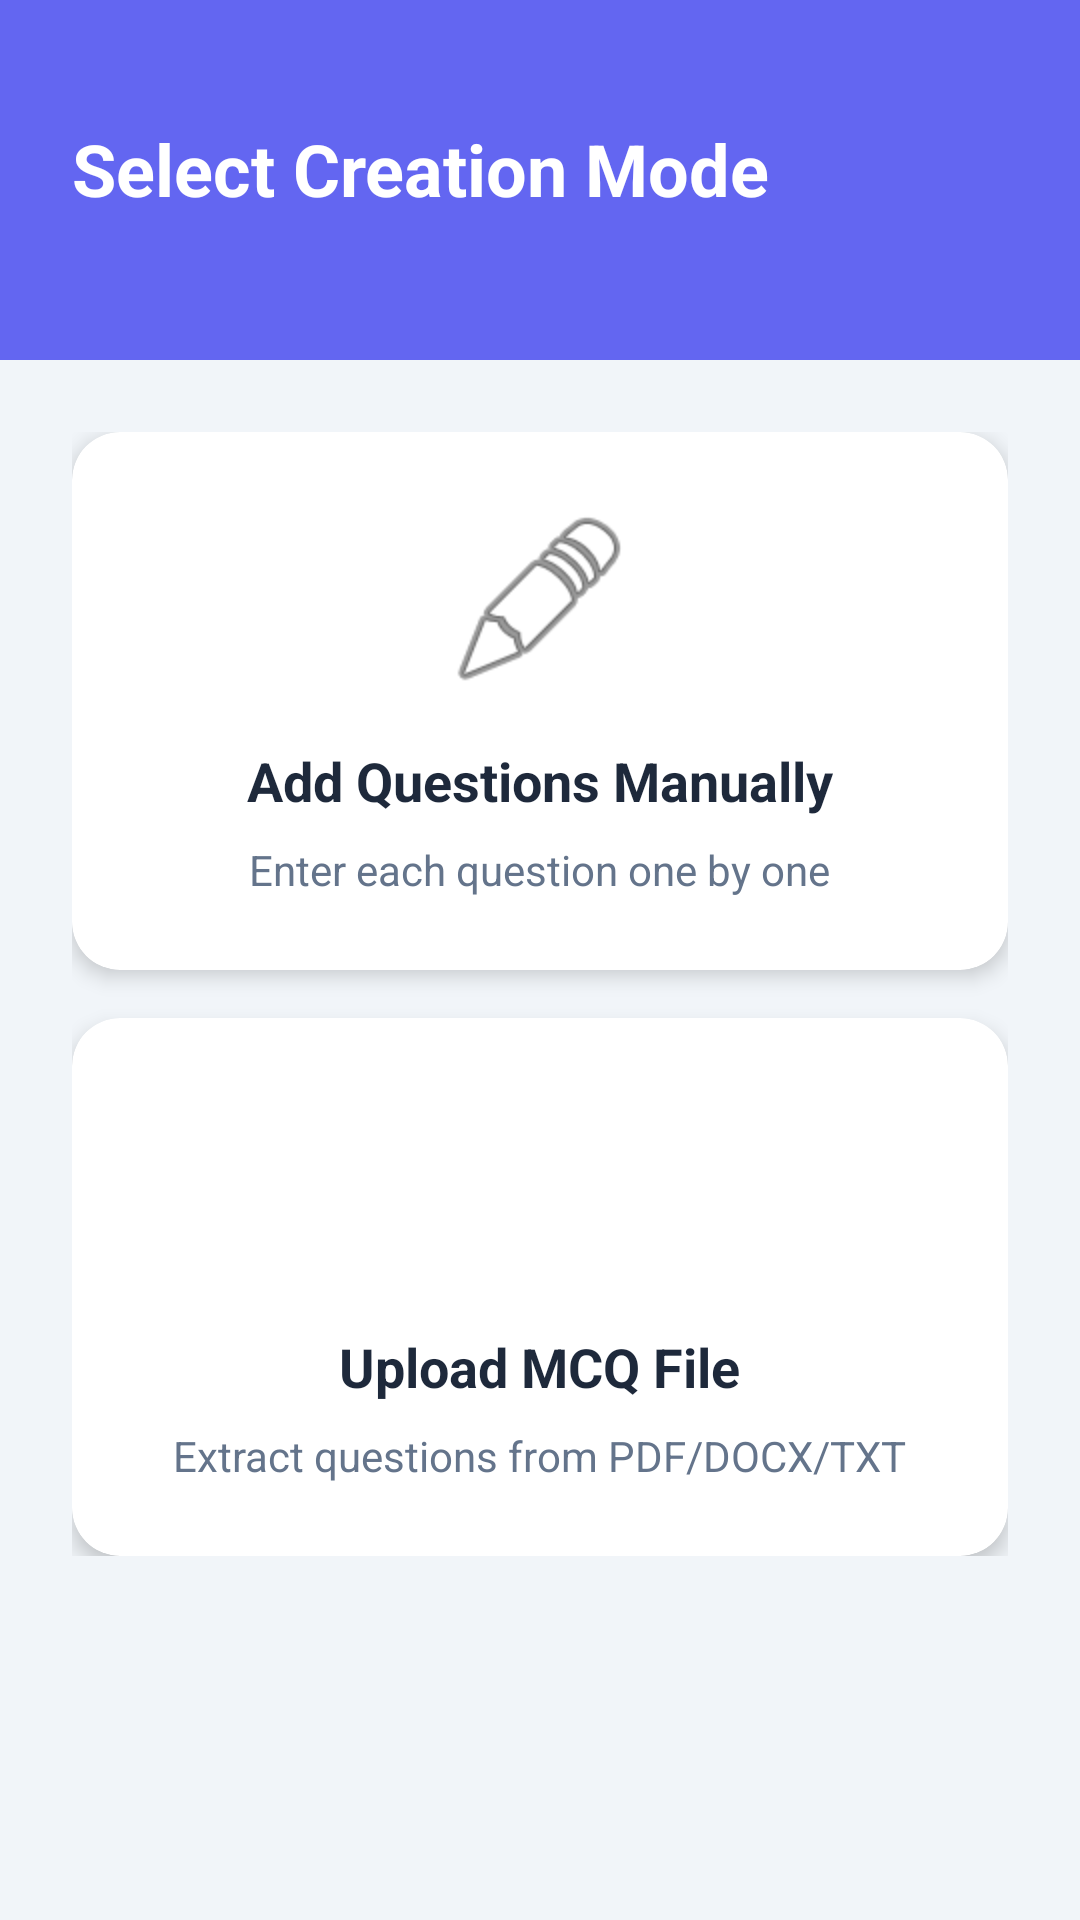

Icons on this 1080w x 1920h Android screen, each with its box as (x1, y1, x2, y2):
edit: (458, 517, 621, 680)
